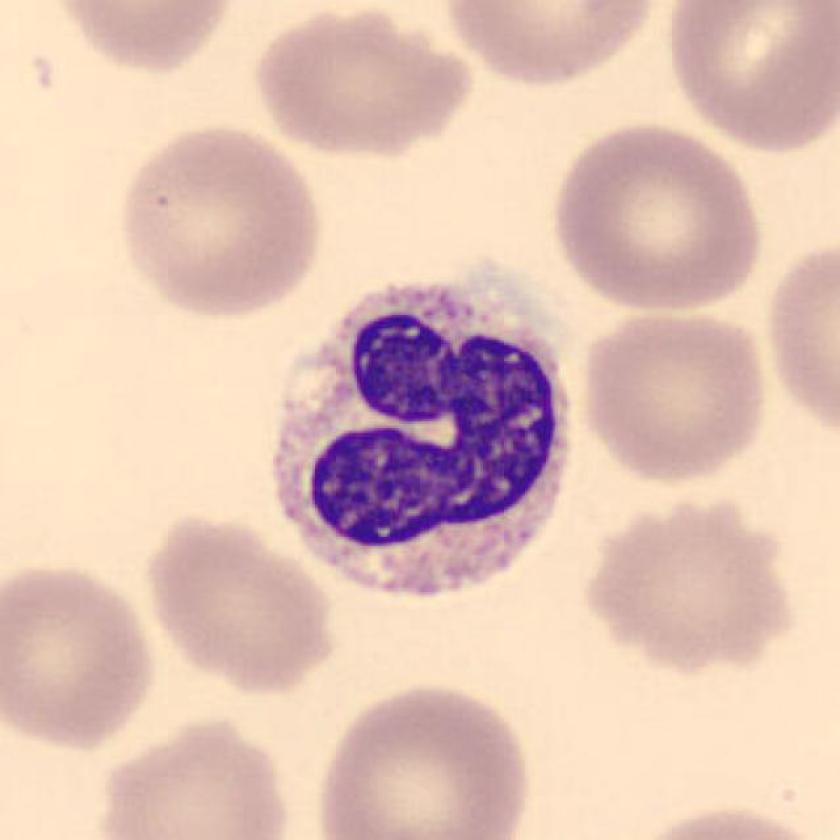neutrophil: (274, 281, 572, 601)
